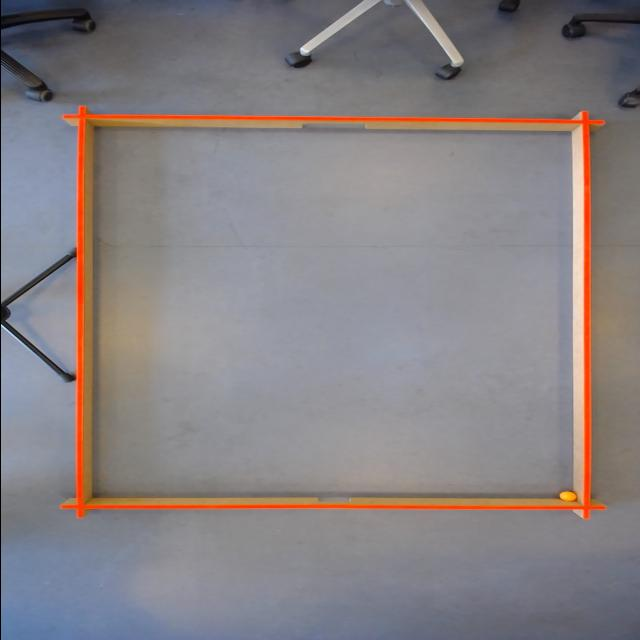orange_ball: (556, 491, 576, 502)
